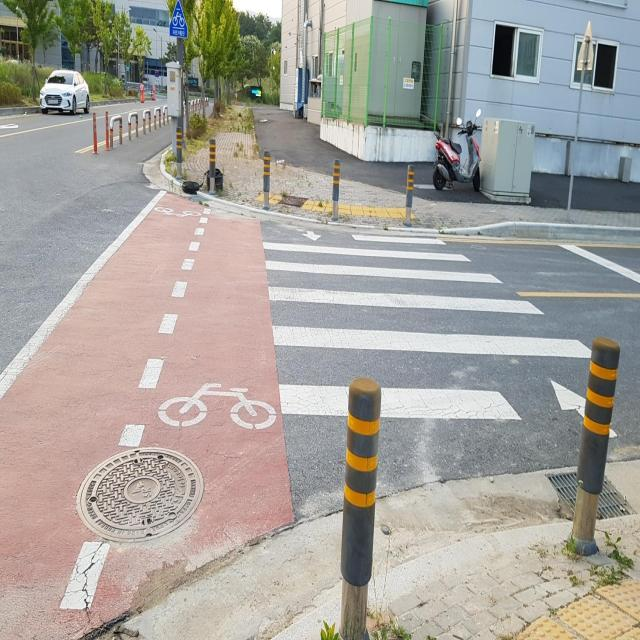횡단보도: (259, 222, 621, 444)
